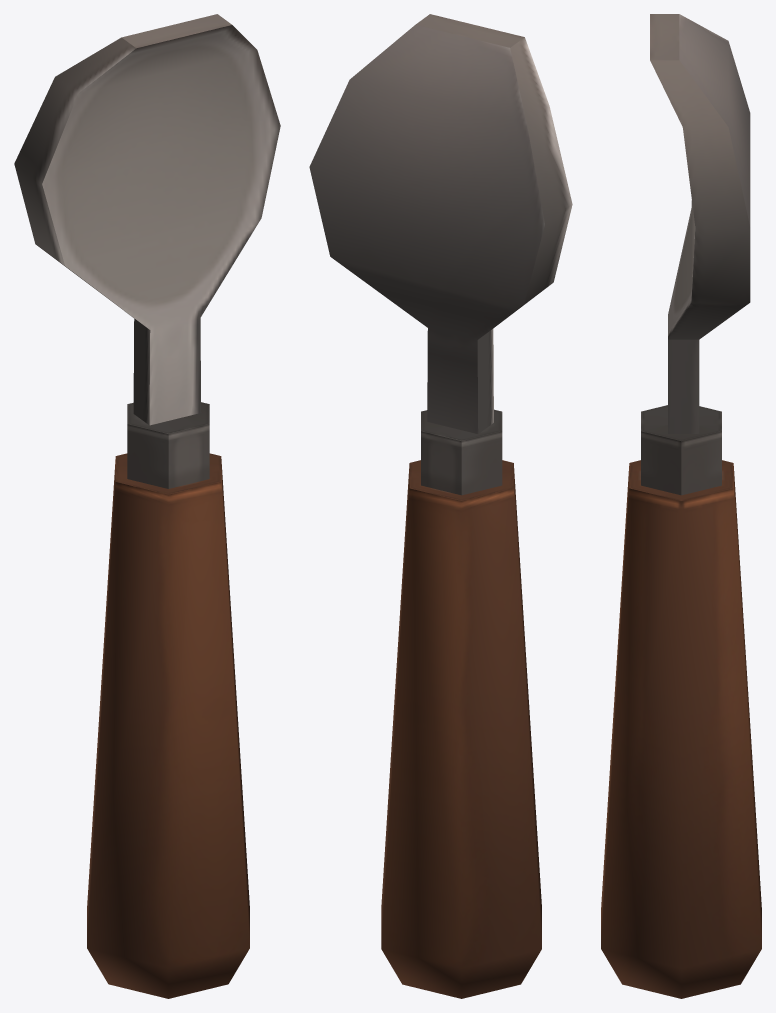
File: spoon.FBX
The picture shows the model from 3 angles, left to right: view 1: azimuth 30°, elevation 25°; view 2: azimuth 150°, elevation 25°; view 3: azimuth 270°, elevation 25°; orthographic projection.
Visible parts, largest first — view 1: spoon; view 2: spoon; view 3: spoon.
Boxes of the visible parts, x1,y1,x2,y2 form: spoon: [14, 14, 280, 998]; spoon: [309, 14, 572, 998]; spoon: [601, 14, 761, 998].
Size of the model in its own units: 1.6 by 6.21 by 0.9475.
